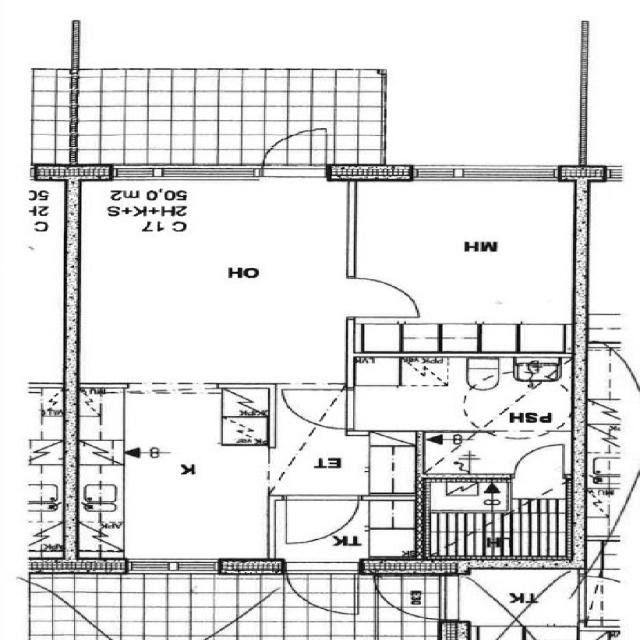door: (268, 488, 365, 548), (338, 268, 429, 324), (258, 127, 336, 177), (276, 380, 352, 430), (378, 580, 446, 625), (510, 440, 571, 480), (468, 622, 510, 640)
window: (402, 160, 565, 187), (99, 160, 267, 186), (118, 555, 227, 579)
zone: (70, 174, 353, 388), (347, 179, 580, 356), (73, 384, 274, 566), (348, 352, 582, 466), (413, 478, 579, 564)
